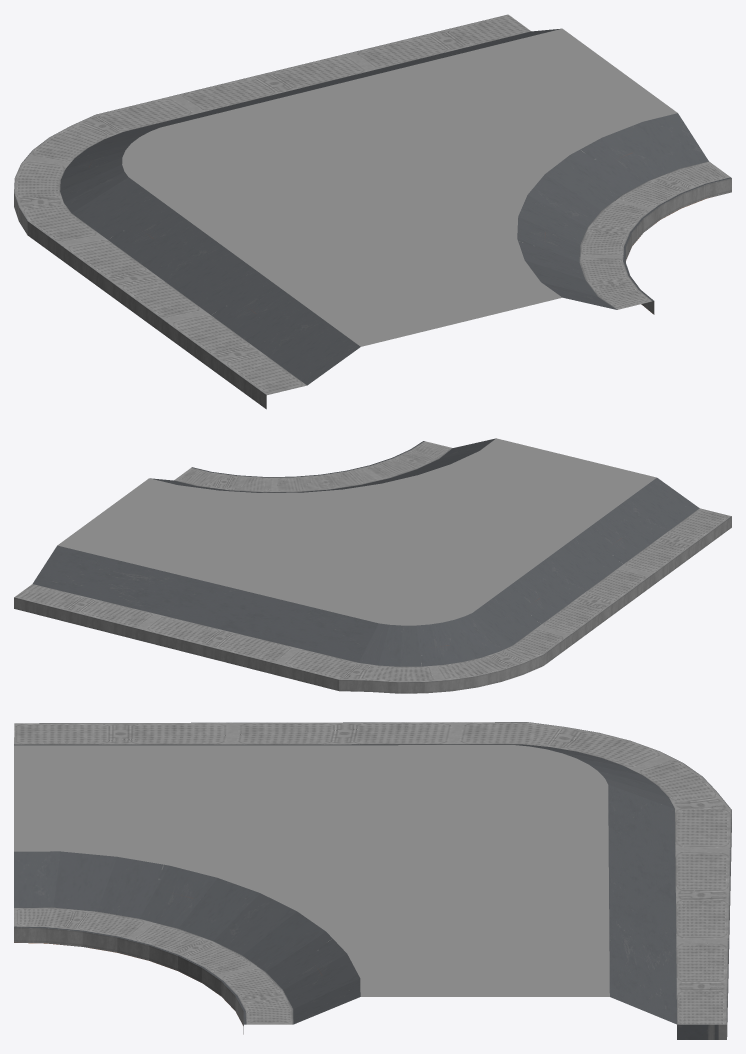
File: roof_c.FBX
3 views of the same model, one above another, from view 1: azimuth 30°, elevation 25°; view 2: azimuth 150°, elevation 25°; view 3: azimuth 270°, elevation 25° (orthographic). The views are drawn at different scales.
Visible parts, largest first — view 1: Plane004; view 2: Plane004; view 3: Plane004.
Part boxes in pixels (x1=…): Plane004: x1=14, y1=14, x2=731, y2=409; Plane004: x1=14, y1=438, x2=731, y2=693; Plane004: x1=14, y1=722, x2=731, y2=1039.
Size of the model in its own units: 591 by 40.82 by 594.
